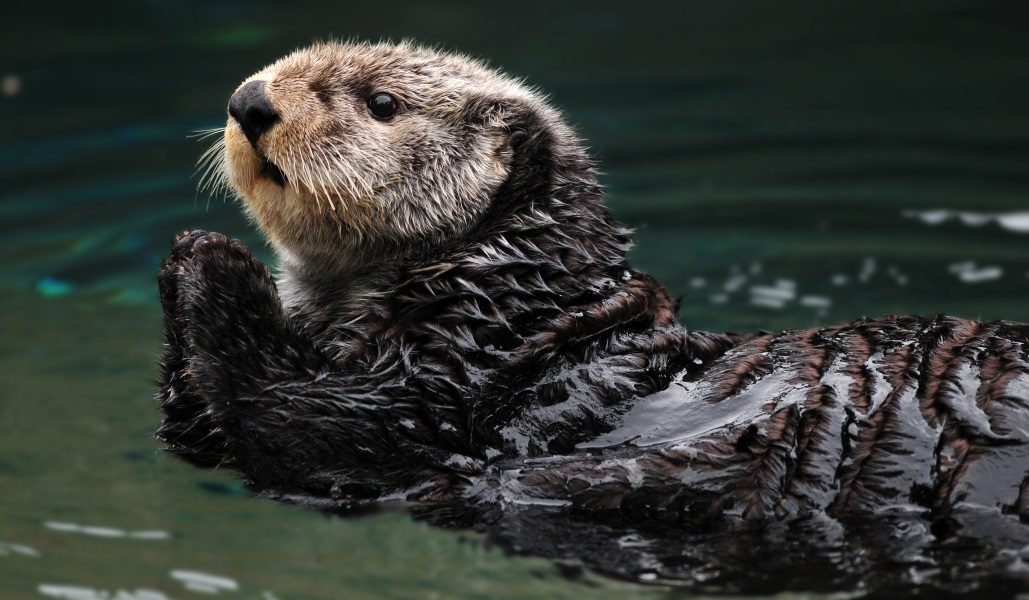otter: (164, 21, 990, 539)
